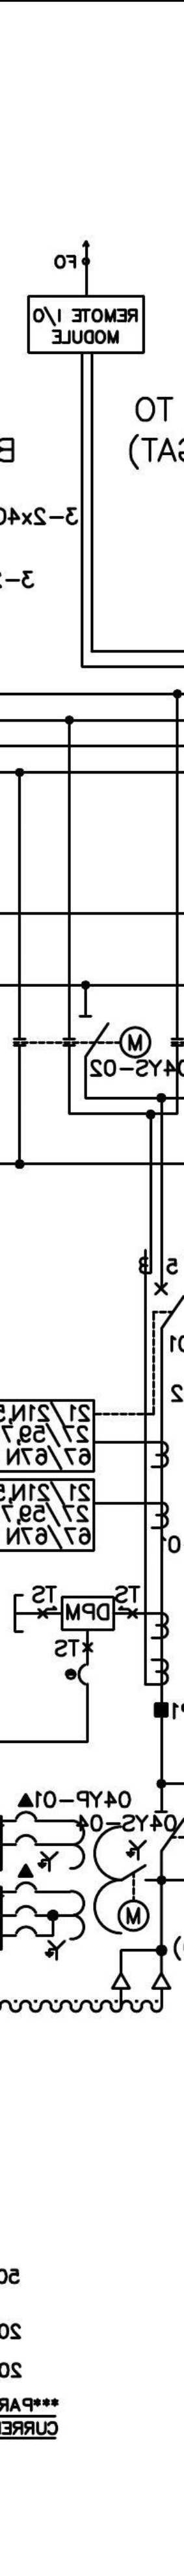115_1way_ds_w_motor: (77, 1014, 153, 1060), (117, 1863, 151, 1932)
115_vt_3p: (13, 1792, 148, 1962)
DPM: (61, 1595, 115, 1631)
remote_io_module: (28, 294, 146, 355)
terminator_double: (110, 1948, 172, 1991)
